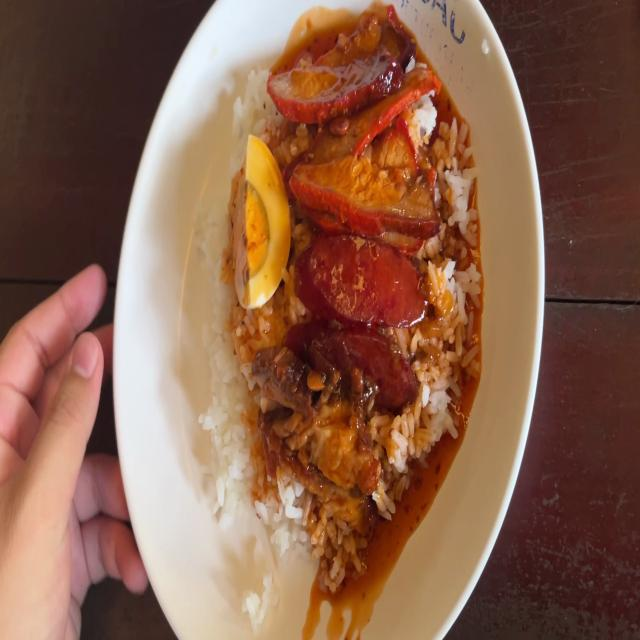01boiled_egg: (234, 141, 287, 300)
01chainese_sausage: (298, 235, 420, 393)
01crispy_pork: (255, 368, 371, 512)
01red_pork: (278, 40, 439, 233)
01red_pork_and_crispy_pork: (204, 40, 457, 561)
01rice: (212, 315, 261, 513), (419, 240, 462, 446), (372, 412, 417, 511), (236, 74, 278, 137)
